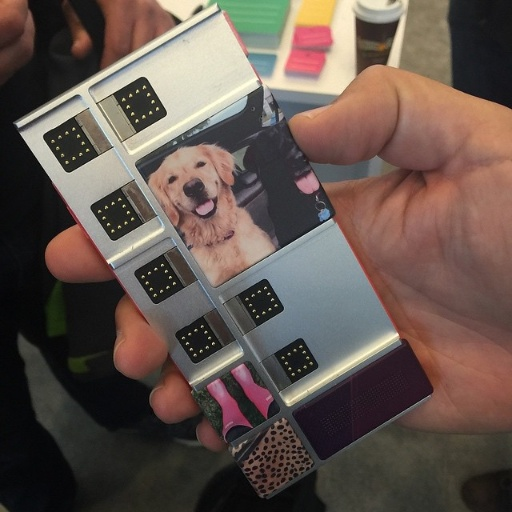hand: (44, 64, 511, 456), (60, 0, 177, 70), (0, 0, 36, 84)
